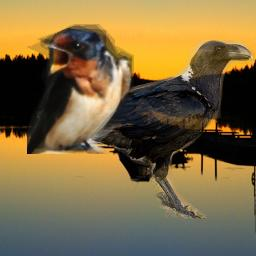Crow: (37, 40, 255, 219)
Swallow: (27, 24, 134, 154)
